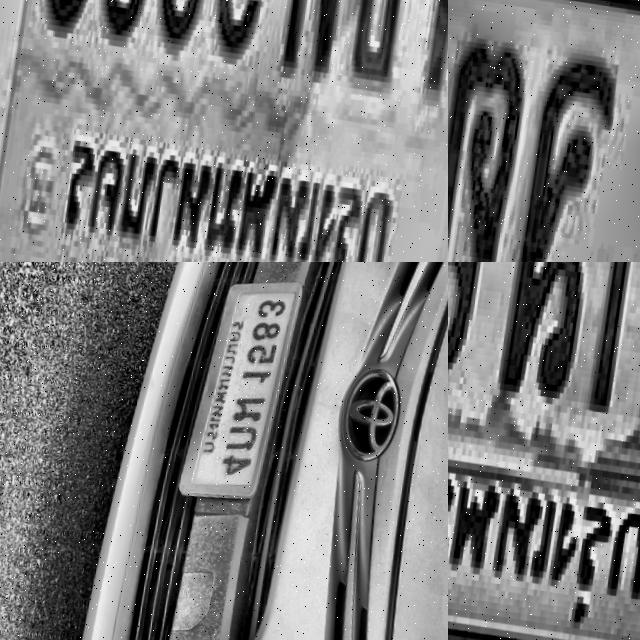license-plate: (0, 0, 448, 262), (448, 262, 640, 640), (448, 0, 640, 262), (152, 339, 344, 495)
